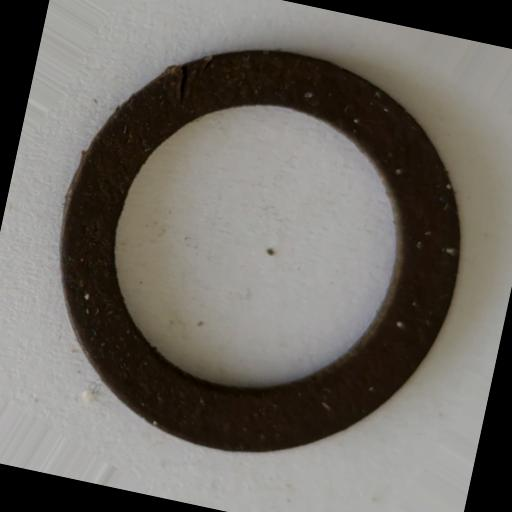defect: (172, 48, 214, 106)
